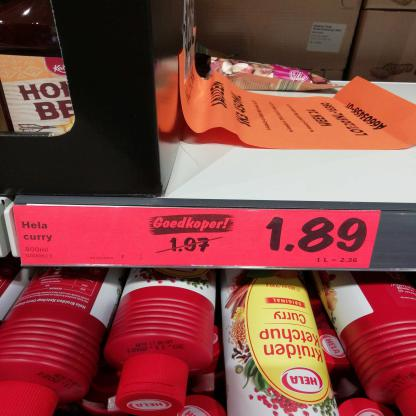prtg: (13, 206, 382, 269)
